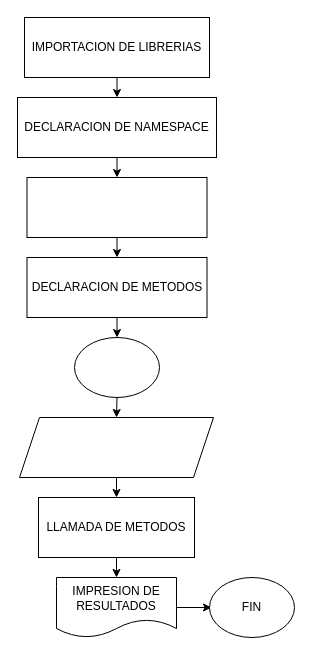
Image size: 312x655. Some labels were removed from this diagram. Here are the shapes that lost their labels. From the top down, the centre of each, then its label:
At point (116, 207): "DECLARACION DE LA CLASE".
At point (117, 367): "INICIO".
At point (116, 447): "INGRESO DE VALORES DEL OBJETO".
